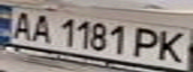1: (106, 21, 130, 55), (54, 16, 78, 47), (72, 17, 93, 50)
8: (90, 19, 109, 52)
A: (6, 9, 39, 40), (27, 11, 57, 44)
K: (151, 28, 190, 64)
P: (130, 25, 166, 60)
